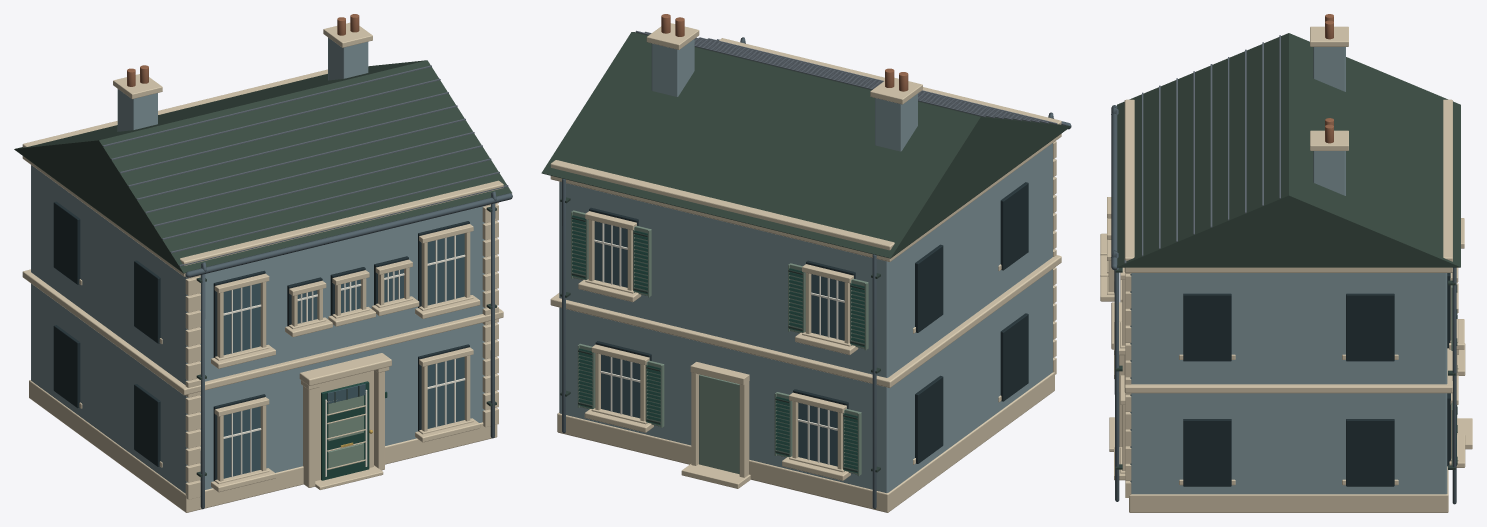
File: blue_workshop.glb
3 views of the same model, side by side, from view 1: azimuth 30°, elevation 25°; view 2: azimuth 150°, elevation 25°; view 3: azimuth 270°, elevation 25° (orthographic). The views are drawn at different scales.
Visible parts, largest first — view 1: Pitched_slate_roof, Building_masonry, Stone_plinth, Continuous_cornice, Continuous_cornice.002, Zinc_gutter, Window_glass.002, Window_glass, Window_glass.004, Window_glass.001, Entry_door, Window_recess.009 (+31 smaller); view 2: Building_masonry, Pitched_slate_roof, Stone_plinth, Continuous_cornice, Continuous_cornice.002, Garden_entry_door, Continuous_cornice.001, Window_recess.008, Window_recess.010, Window_recess.011, Window_recess.009, Chimney_stack.001 (+20 smaller); view 3: Pitched_slate_roof, Building_masonry, Stone_plinth, Continuous_cornice, Window_recess.014, Window_recess.015, Continuous_cornice.002, Window_recess.013, Window_recess.012, Continuous_cornice.001, Chimney_stack.001, Chimney_stack (+6 smaller).
Part boxes in pixels (x1,y1,x2,y2): Pitched_slate_roof: [14, 60, 511, 273]; Building_masonry: [31, 165, 484, 493]; Stone_plinth: [29, 380, 497, 512]; Continuous_cornice: [22, 269, 503, 395]; Continuous_cornice.002: [22, 69, 503, 265]; Zinc_gutter: [185, 193, 512, 277]; Window_glass.002: [223, 283, 260, 355]; Window_glass: [223, 406, 260, 478]; Window_glass.004: [427, 233, 464, 305]; Window_glass.001: [427, 357, 464, 428]; Entry_door: [321, 381, 369, 480]; Window_recess.009: [53, 325, 80, 408]; Building_masonry: [559, 143, 1052, 492]; Pitched_slate_roof: [541, 32, 1070, 258]; Stone_plinth: [557, 372, 1054, 512]; Continuous_cornice: [550, 255, 1061, 387]; Continuous_cornice.002: [550, 38, 1061, 250]; Garden_entry_door: [699, 374, 739, 474]; Continuous_cornice.001: [550, 134, 1061, 261]; Window_recess.008: [1000, 313, 1028, 401]; Window_recess.010: [1000, 182, 1028, 270]; Window_recess.011: [915, 244, 943, 332]; Window_recess.009: [915, 375, 943, 463]; Chimney_stack.001: [651, 39, 694, 96]; Pitched_slate_roof: [1117, 33, 1460, 267]; Building_masonry: [1130, 273, 1447, 494]; Stone_plinth: [1129, 466, 1448, 512]; Continuous_cornice: [1124, 348, 1452, 393]; Window_recess.014: [1346, 293, 1394, 361]; Window_recess.015: [1183, 293, 1231, 361]; Continuous_cornice.002: [1124, 99, 1452, 261]; Window_recess.013: [1183, 419, 1231, 486]; Window_recess.012: [1346, 419, 1394, 486]; Continuous_cornice.001: [1124, 267, 1452, 272]; Chimney_stack.001: [1313, 151, 1345, 195]; Chimney_stack: [1313, 47, 1345, 91].
Bounding box in the file's own units: 8.5 × 8.9 × 8.23.
